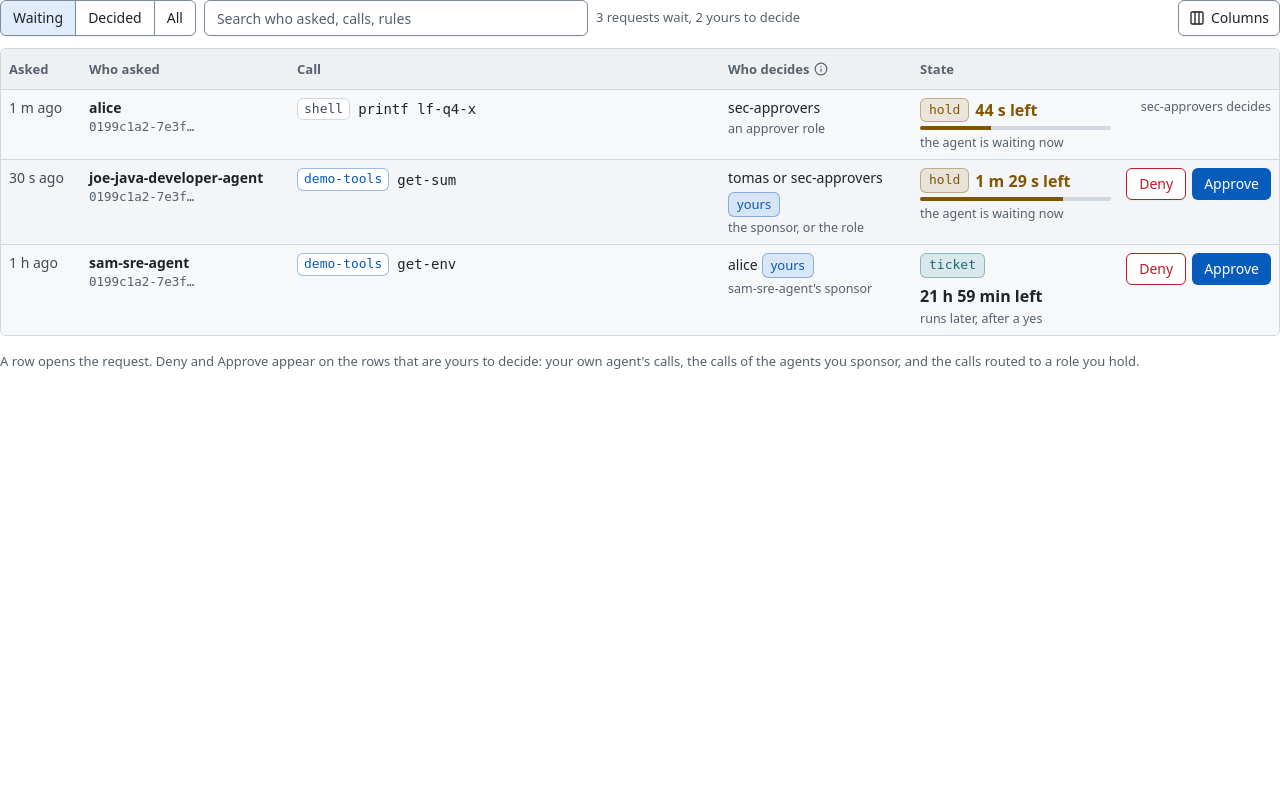
Test case: the self-service requests tab › tells a person who decides as a holder of the role who the sponsor is, though the page's seat carries no roles
Click the button with aria-label "Open get-sum for joe-java-developer-agent". click: (36, 178)
box: x1=1 y1=160 x2=1279 y2=245
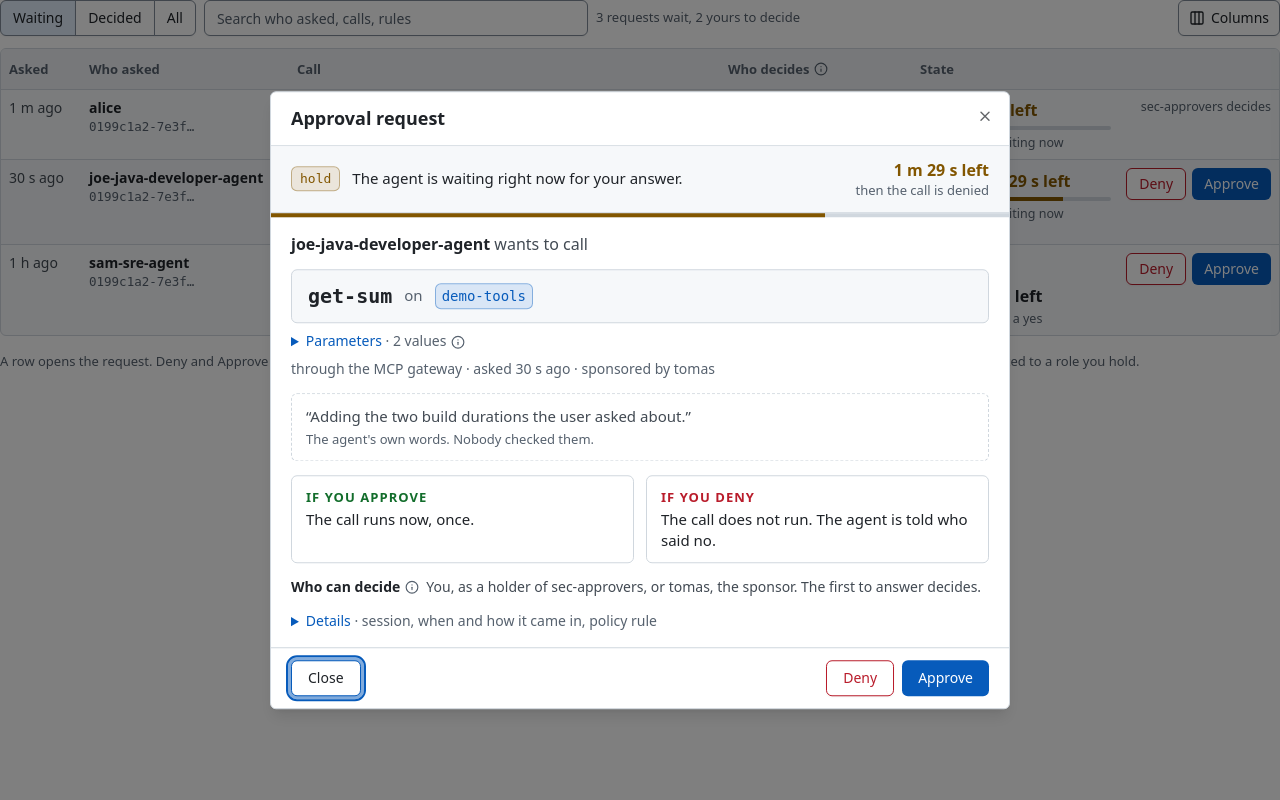
Result: the text "You, as a holder of sec-approvers, or tomas, the sponsor. The first to answer decides." is shown at x1=426 y1=578 x2=981 y2=596
